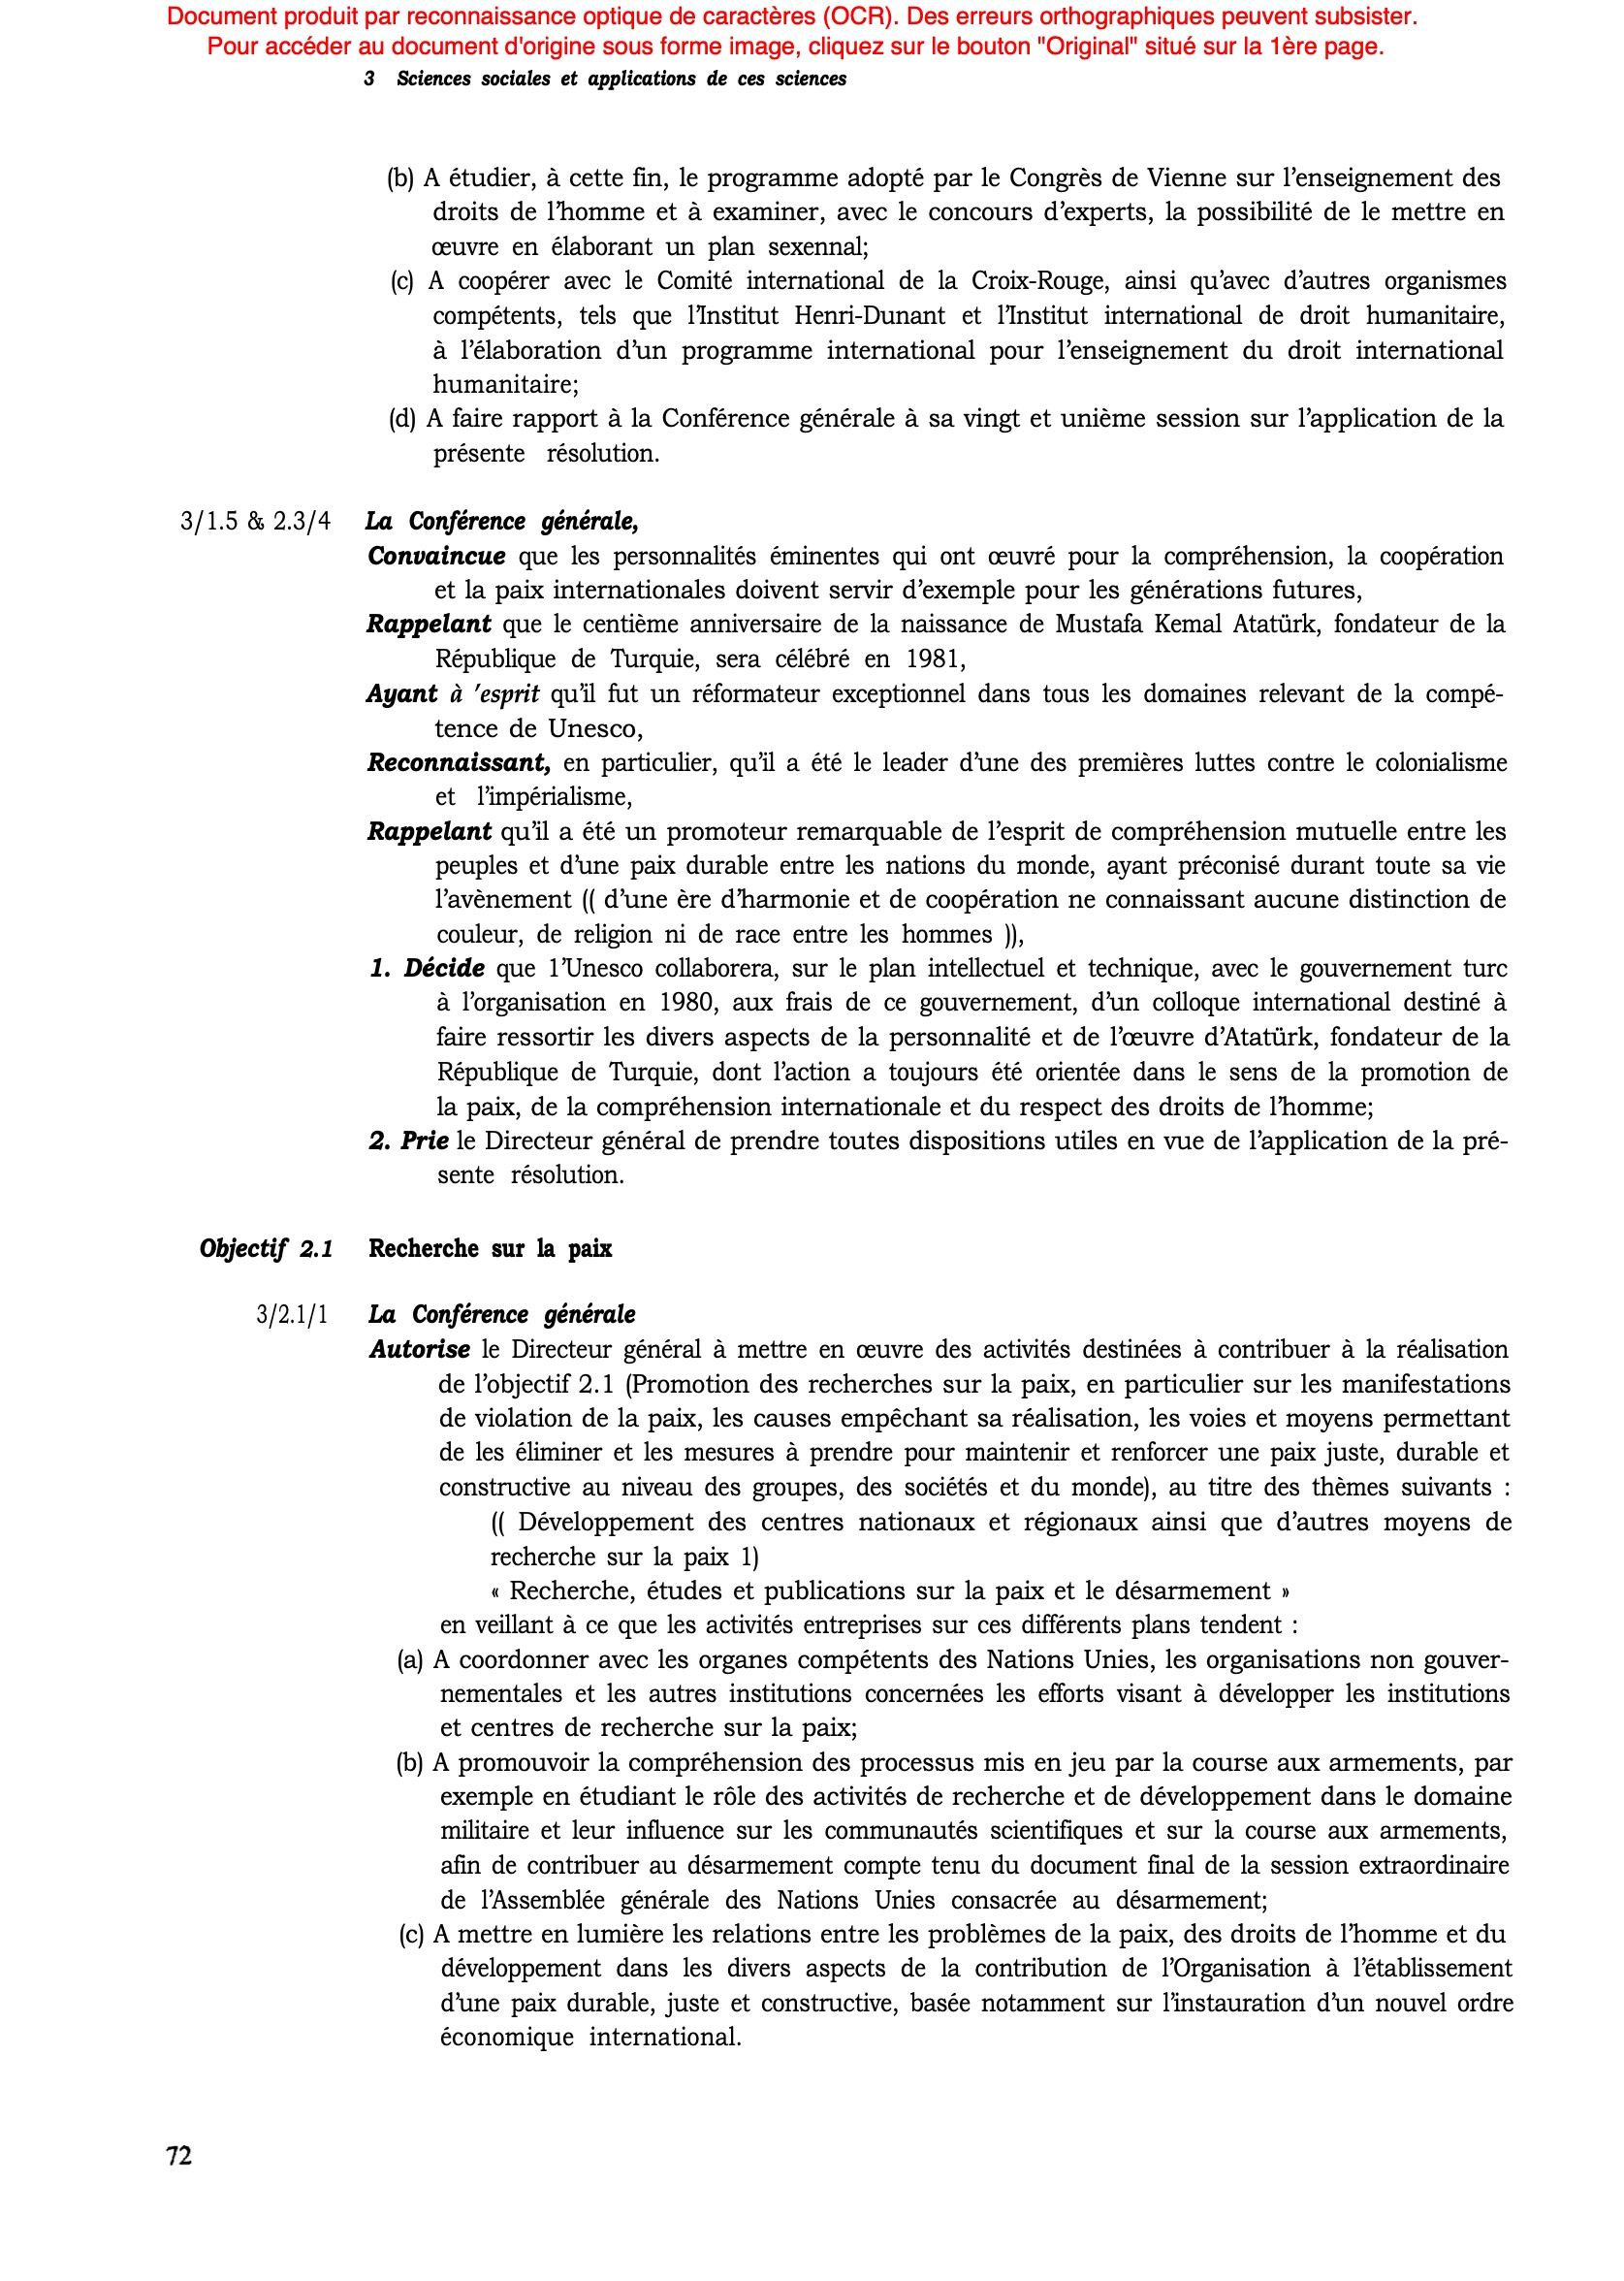DigitizationArtefactZone: (152, 1, 1428, 65)
MainZone-Head: (182, 1227, 625, 1269), (164, 499, 647, 538), (245, 1294, 642, 1333)
MainZone-ListItem: (359, 952, 1513, 1125), (377, 1745, 1521, 1916), (383, 1914, 1523, 2066), (368, 264, 1516, 395), (361, 154, 1510, 266), (384, 1643, 1514, 1746), (367, 400, 1514, 478), (356, 1129, 1514, 1196), (477, 1504, 1518, 1576), (477, 1576, 1299, 1605)
MainZone-P: (356, 1331, 1514, 1502), (359, 815, 1513, 951), (354, 675, 1507, 744), (357, 536, 1509, 604), (355, 607, 1509, 674), (357, 748, 1513, 810), (427, 1606, 1302, 1643)
StampZone: (353, 68, 850, 91)
TitlePageZone: (158, 2134, 202, 2179)
